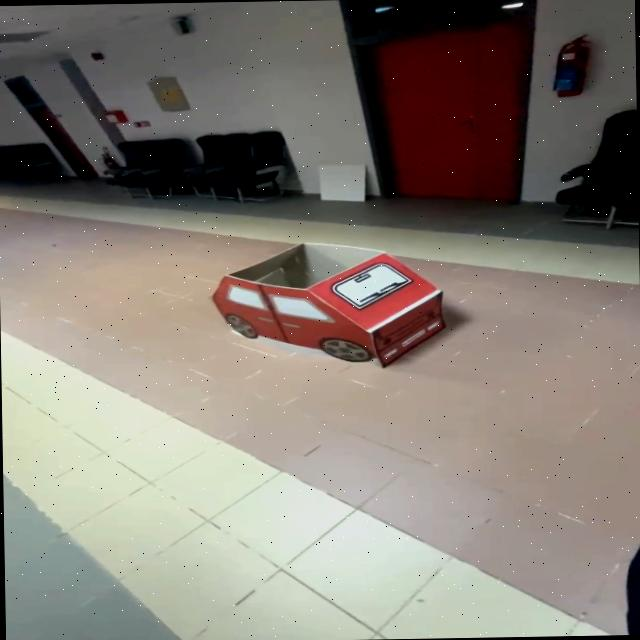red_car: (167, 218, 478, 387)
